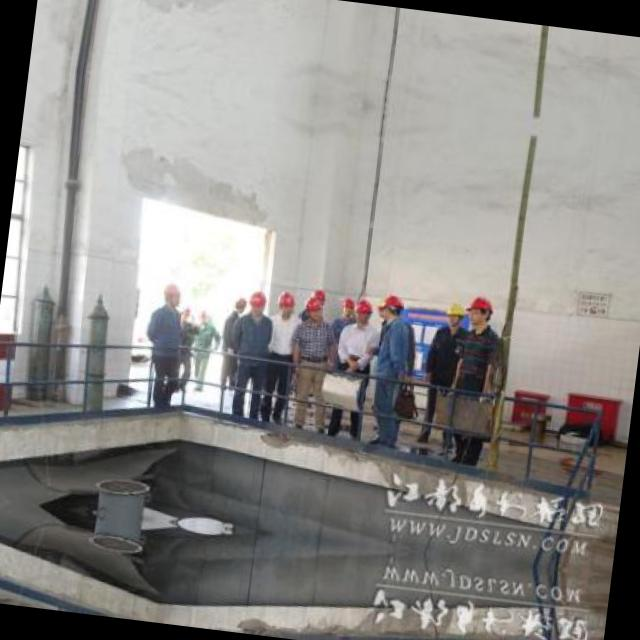helmet: (464, 291, 494, 332), (375, 288, 404, 326), (156, 278, 182, 310), (244, 286, 270, 318), (440, 297, 466, 329), (300, 294, 324, 324), (272, 288, 295, 318), (354, 292, 374, 324), (339, 295, 357, 318), (232, 294, 248, 314)
